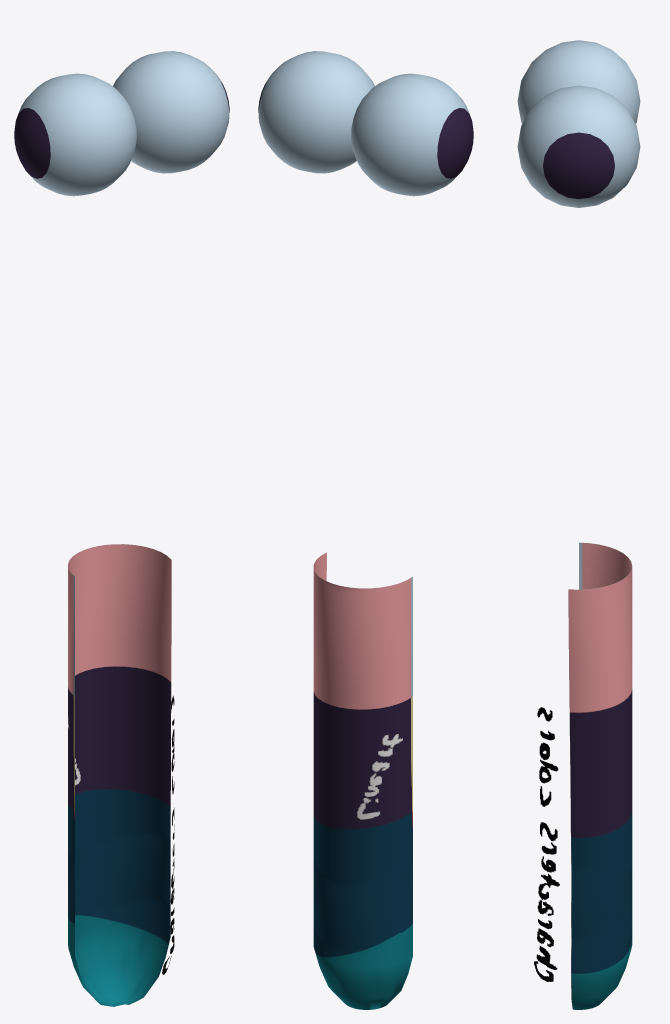
Rendered from wiggleworm_firstpass.fbx.
The picture shows the model from 3 angles, left to right: view 1: azimuth 30°, elevation 25°; view 2: azimuth 150°, elevation 25°; view 3: azimuth 270°, elevation 25°; orthographic projection.
Visible parts, largest first — view 1: Body, Right_Eye, Left_Eye; view 2: Body, Right_Eye, Left_Eye; view 3: Body, Left_Eye, Right_Eye.
Boxes of the visible parts, x1,y1,x2,y2 form: Body: [68, 544, 174, 1006]; Right_Eye: [14, 73, 136, 196]; Left_Eye: [113, 51, 229, 173]; Body: [313, 552, 412, 1009]; Right_Eye: [351, 73, 473, 196]; Left_Eye: [258, 51, 374, 173]; Body: [534, 542, 632, 1009]; Left_Eye: [517, 85, 640, 207]; Right_Eye: [517, 40, 640, 123].
Size of the model in its own units: 37.72 by 178 by 25.24.
